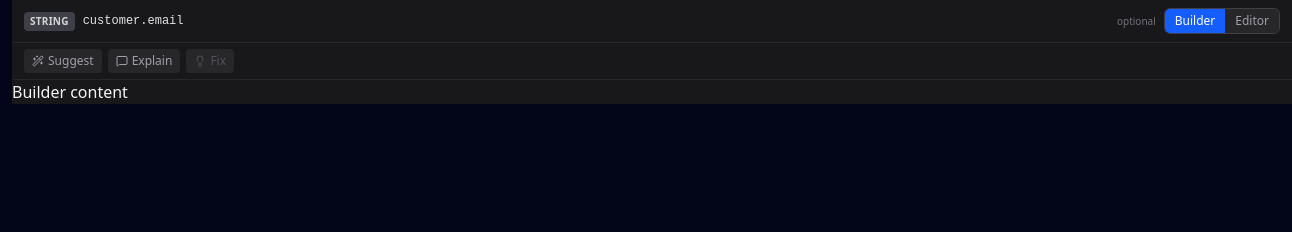
Scenario: ChainBuilderShell — Explain Rule (FS-041) › AE-02/AE-04: shows explanation panel with text and generated-assistance label on success
This screenshot has width=1292, height=232.
Click the button with test id "chain-shell-ai-explain": {"x": 144, "y": 61} [108,49,180,73]
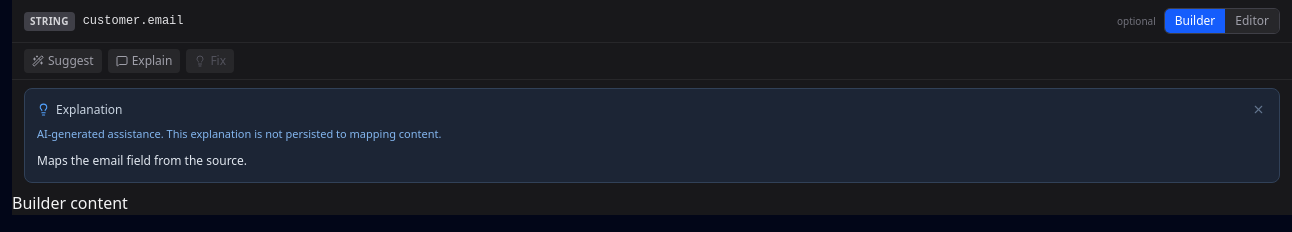
Now the message with test id "explanation-panel" is shown, box [24,88,1280,183]
Now the message with test id "explanation-panel" shows "Maps the email field from the source.", box [37,152,247,168]
Now the text with test id "explanation-assistance-label" reads "AI-generated assistance. This explanation is not persisted to mapping content.", box [37,126,442,141]
